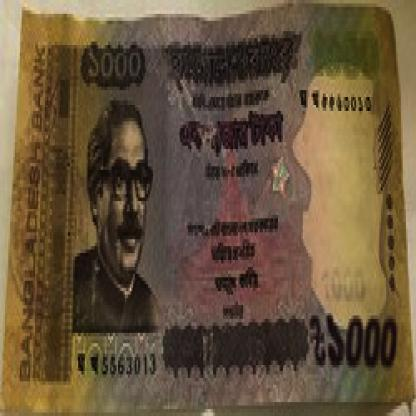One Thousand taka: (306, 308, 403, 378), (82, 42, 148, 86)
